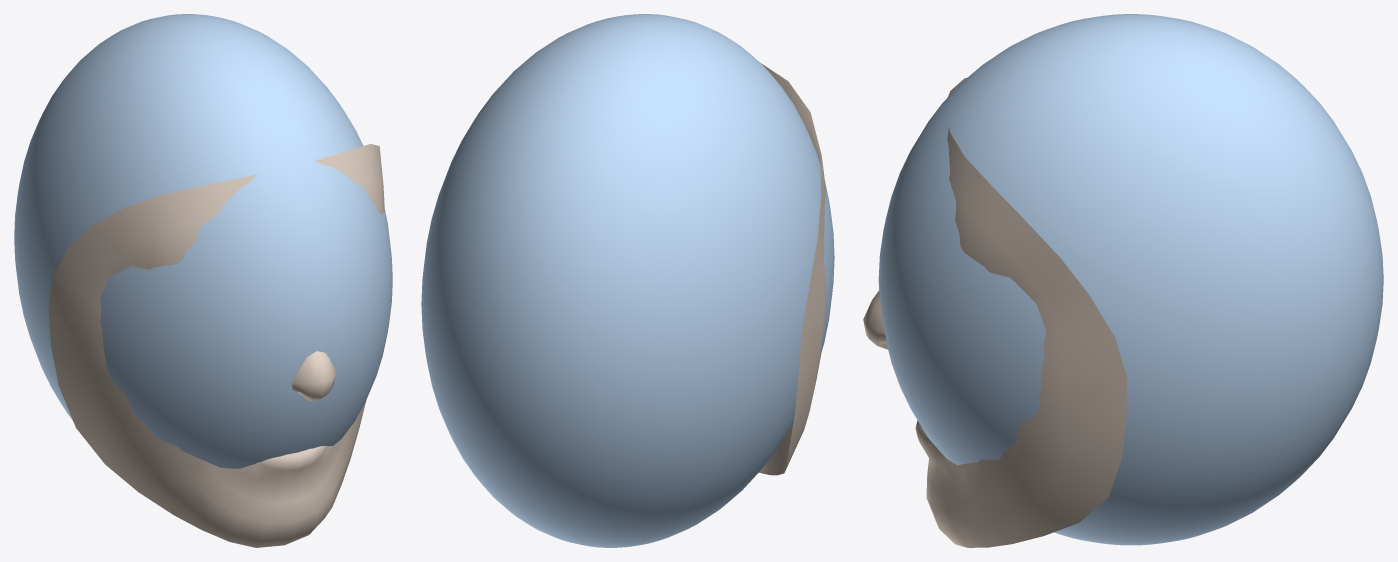
Rendered from tracked-reference-head.glb.
The picture shows the model from 3 angles, left to right: view 1: azimuth 30°, elevation 25°; view 2: azimuth 150°, elevation 25°; view 3: azimuth 270°, elevation 25°; orthographic projection. The views are drawn at different scales.
Visible parts, largest first — view 1: TrackED_Reference_Skull, TrackED_Reference_Face; view 2: TrackED_Reference_Skull, TrackED_Reference_Face; view 3: TrackED_Reference_Skull, TrackED_Reference_Face.
Boxes of the visible parts, x1=… form: TrackED_Reference_Skull: x1=14, y1=14, x2=392, y2=468; TrackED_Reference_Face: x1=48, y1=144, x2=384, y2=547; TrackED_Reference_Skull: x1=421, y1=14, x2=834, y2=547; TrackED_Reference_Face: x1=759, y1=63, x2=825, y2=475; TrackED_Reference_Skull: x1=878, y1=14, x2=1383, y2=545; TrackED_Reference_Face: x1=863, y1=78, x2=1126, y2=547.
Bounding box in the file's own units: 0.1549 × 0.212 × 0.1979.
